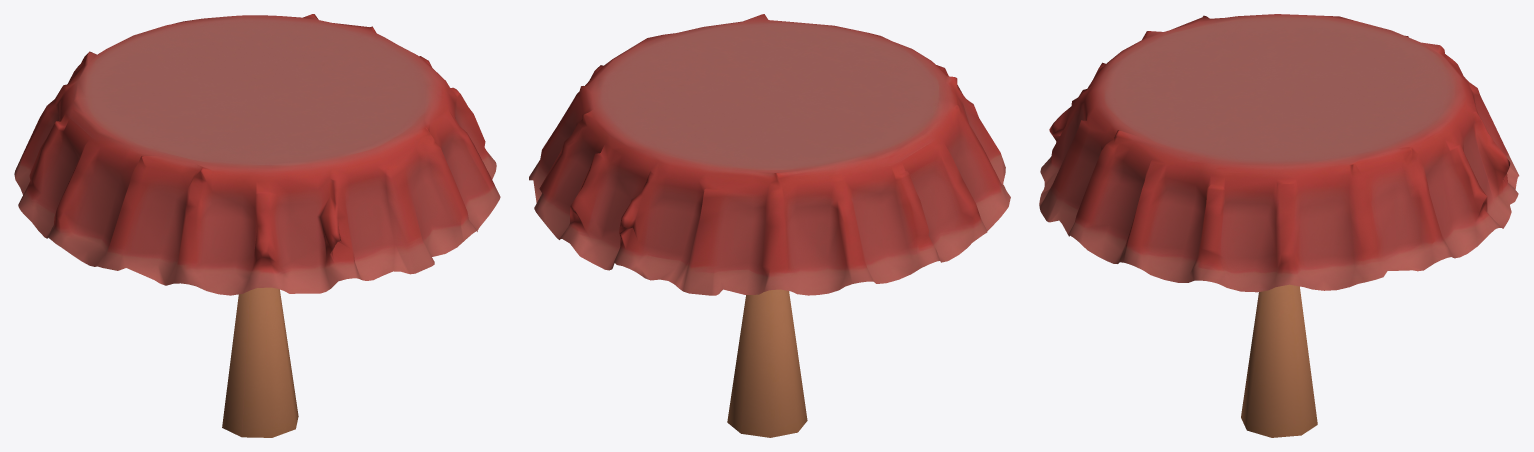
Rendered from disk_good.glb.
The picture shows the model from 3 angles, left to right: view 1: azimuth 30°, elevation 25°; view 2: azimuth 150°, elevation 25°; view 3: azimuth 270°, elevation 25°; orthographic projection.
Visible parts, largest first — view 1: tripo_node_d9847061-2545-411f-82b0-887c496a7764; view 2: tripo_node_d9847061-2545-411f-82b0-887c496a7764; view 3: tripo_node_d9847061-2545-411f-82b0-887c496a7764.
Boxes of the visible parts, left/top/right/bottom form: tripo_node_d9847061-2545-411f-82b0-887c496a7764: left=14, top=14, right=500, bottom=437; tripo_node_d9847061-2545-411f-82b0-887c496a7764: left=529, top=14, right=1010, bottom=437; tripo_node_d9847061-2545-411f-82b0-887c496a7764: left=1039, top=14, right=1519, bottom=437.
Size of the model in its own units: 0.9888 by 0.7437 by 0.9751.
1 material, 1 textured.
